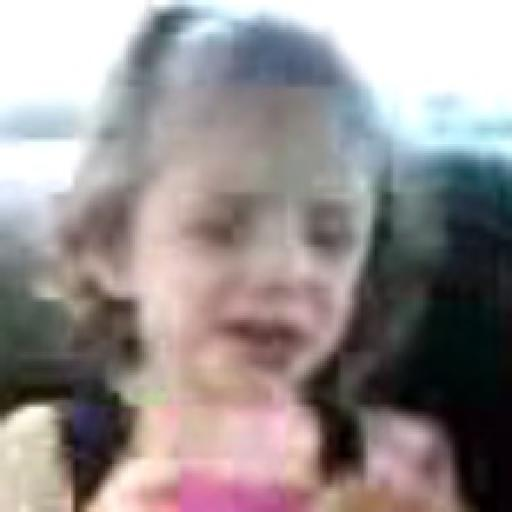Autism: (73, 32, 431, 413)
